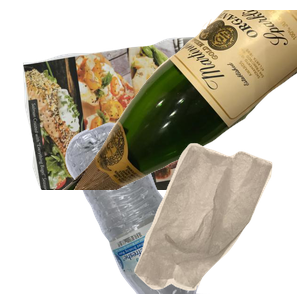glass: (60, 10, 300, 190)
paper: (20, 34, 221, 214)
plastic: (63, 120, 263, 300)
trash: (132, 140, 300, 300)
